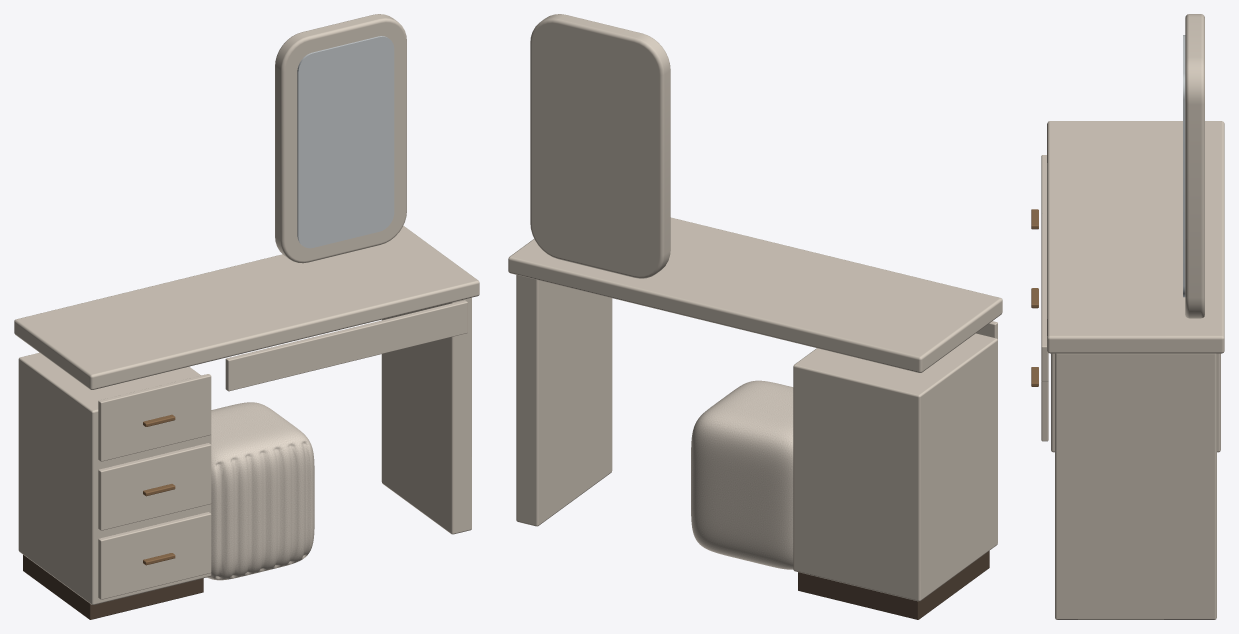
File: nota-bed-set--dresser.glb
3 views of the same model, side by side, from view 1: azimuth 30°, elevation 25°; view 2: azimuth 150°, elevation 25°; view 3: azimuth 270°, elevation 25° (orthographic). The views are drawn at different scales.
Visible parts, largest first — view 1: top, drawers, mglass, stool, legR, mframe, apron, dr2, dr1, dr0, plinth; view 2: drawers, mframe, top, legR, stool, plinth; view 3: legR, top, mframe, apron, drawers, mglass, dr0, dr2.
Boxes of the visible parts, x1,y1,x2,y2 form: top: (14, 226, 479, 389); drawers: (18, 352, 211, 604); mglass: (297, 36, 394, 248); stool: (207, 402, 314, 580); legR: (381, 297, 471, 534); mframe: (275, 14, 406, 263); apron: (225, 300, 467, 391); dr2: (98, 374, 211, 461); dr1: (98, 443, 211, 530); dr0: (98, 512, 211, 599); plinth: (23, 555, 203, 619); drawers: (793, 333, 997, 601); mframe: (530, 14, 670, 278); top: (508, 217, 1002, 372); legR: (516, 275, 612, 526); stool: (691, 380, 793, 569); plinth: (798, 551, 989, 619); legR: (1055, 353, 1216, 619); top: (1047, 121, 1224, 353); mframe: (1185, 14, 1204, 318); apron: (1041, 213, 1048, 381); drawers: (1051, 353, 1220, 452); mglass: (1183, 35, 1185, 297); dr0: (1041, 381, 1048, 441); dr2: (1041, 155, 1046, 213).
Size of the model in its own units: 1.3 by 1.52 by 0.49.
5 materials, 1 textured.
